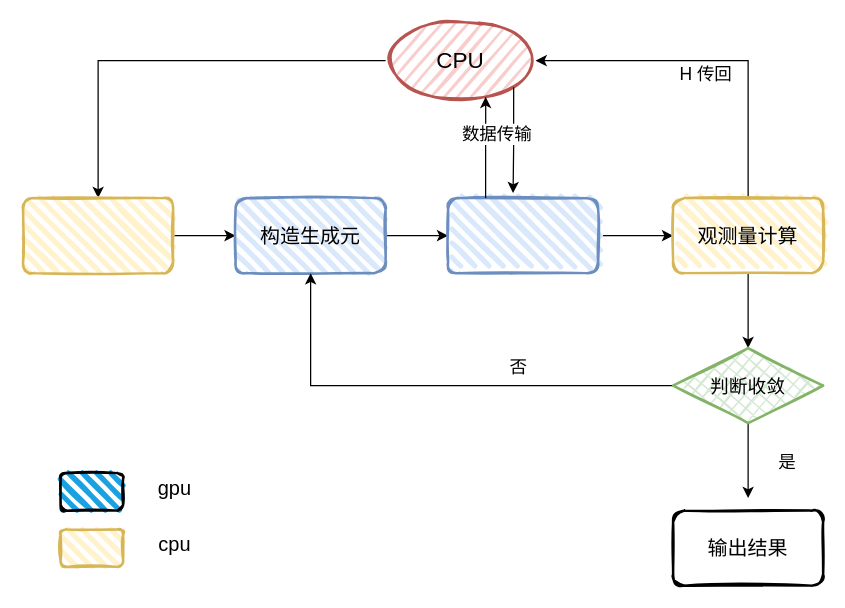
Image size: 845x608. Some labels were removed from this diagram. Each missing label, with the box of its shape:
初始化 H: (21, 196, 174, 274)
更新 H: (446, 196, 599, 274)
